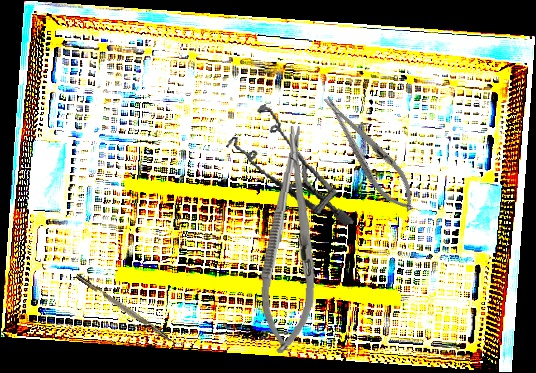Chopper: (75, 268, 186, 351)
Needle Holder: (257, 124, 324, 355), (313, 86, 425, 220)
Speculum: (219, 90, 355, 248)
